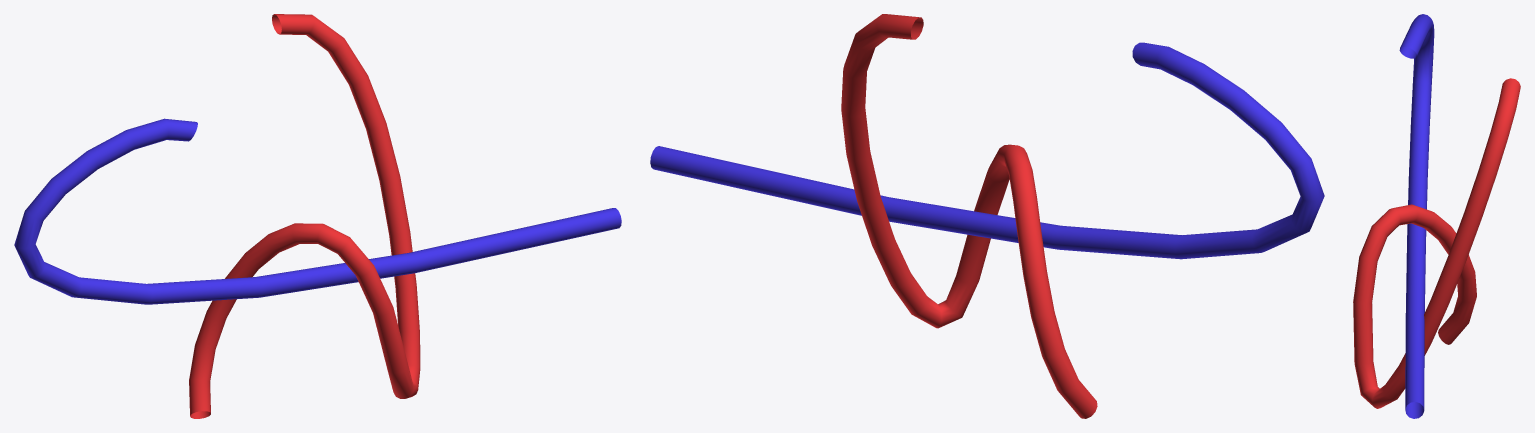
The model's file is SquareKnotState4.dae.
3 renders of one model, left to right at view 1: azimuth 30°, elevation 25°; view 2: azimuth 150°, elevation 25°; view 3: azimuth 270°, elevation 25°, orthographic. The views are drawn at different scales.
Visible parts, largest first — view 1: BezierCurve.002, BezierCurve.003; view 2: BezierCurve.002, BezierCurve.003; view 3: BezierCurve.003, BezierCurve.002.
Boxes of the visible parts, <box> form: BezierCurve.002: <box>14,118,621,304</box>; BezierCurve.003: <box>189,14,420,418</box>; BezierCurve.002: <box>650,42,1324,259</box>; BezierCurve.003: <box>841,14,1097,418</box>; BezierCurve.003: <box>1353,78,1520,408</box>; BezierCurve.002: <box>1399,14,1434,418</box>.
Size of the model in its own units: 0.6426 by 0.176 by 0.3633.
